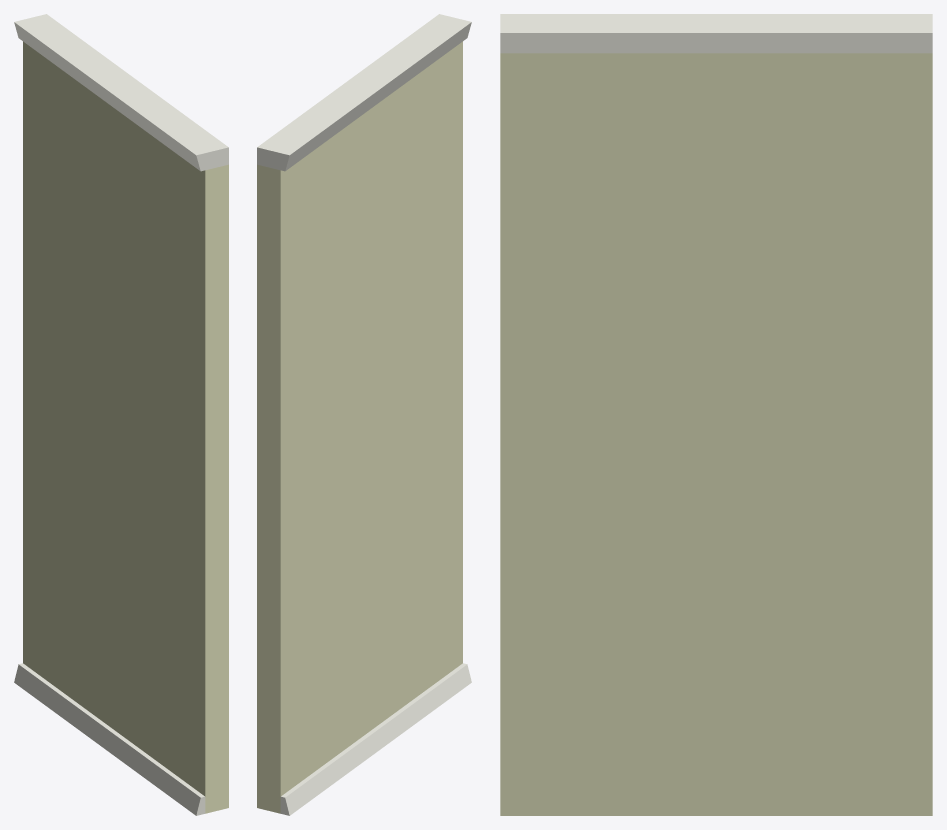
The model's file is Wall.fbx.
3 renders of one model, left to right at view 1: azimuth 30°, elevation 25°; view 2: azimuth 150°, elevation 25°; view 3: azimuth 270°, elevation 25°, orthographic. The views are drawn at different scales.
Parts seen in each view (by area): view 1: Wall; view 2: Wall; view 3: Wall.
Boxes of the visible parts, bbox=[...] form: Wall: bbox=[14, 14, 228, 815]; Wall: bbox=[257, 14, 471, 815]; Wall: bbox=[500, 14, 932, 815].
Bounding box in the file's own units: 20.67 × 400 × 200.
